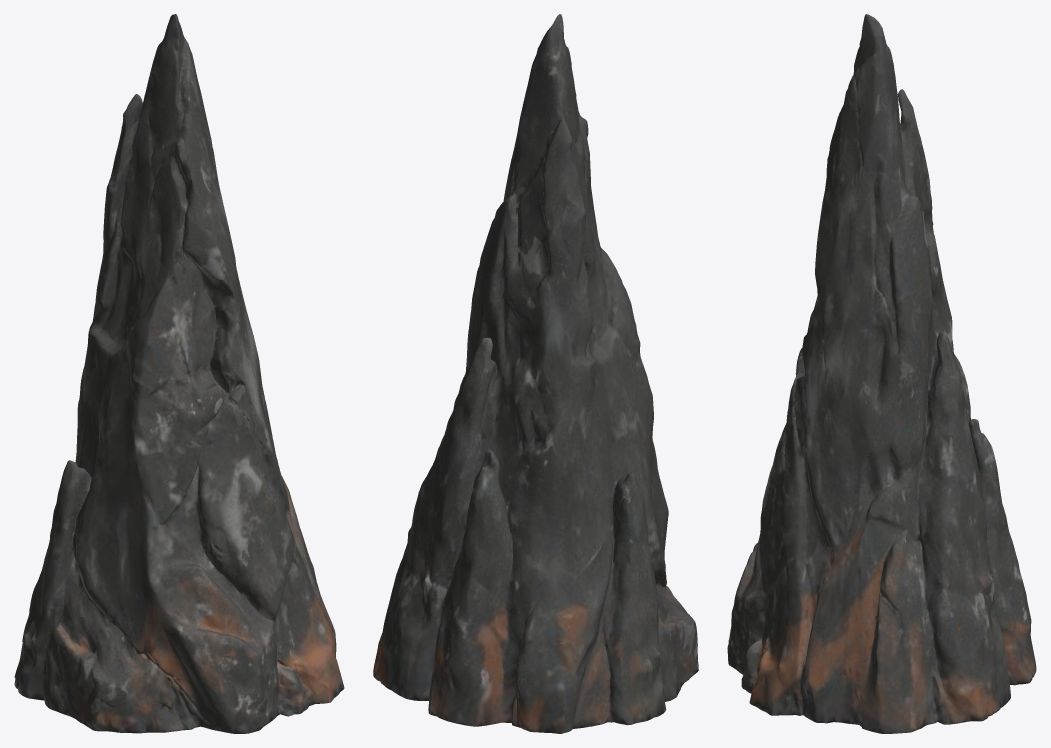
Rendered from boulder_b.glb.
3 views of the same model, side by side, from view 1: azimuth 30°, elevation 25°; view 2: azimuth 150°, elevation 25°; view 3: azimuth 270°, elevation 25° (orthographic). The views are drawn at different scales.
Bounding box in the file's own units: 0.8613 × 1.9 × 0.8255.
Materials: 1 (1 with a texture image).
